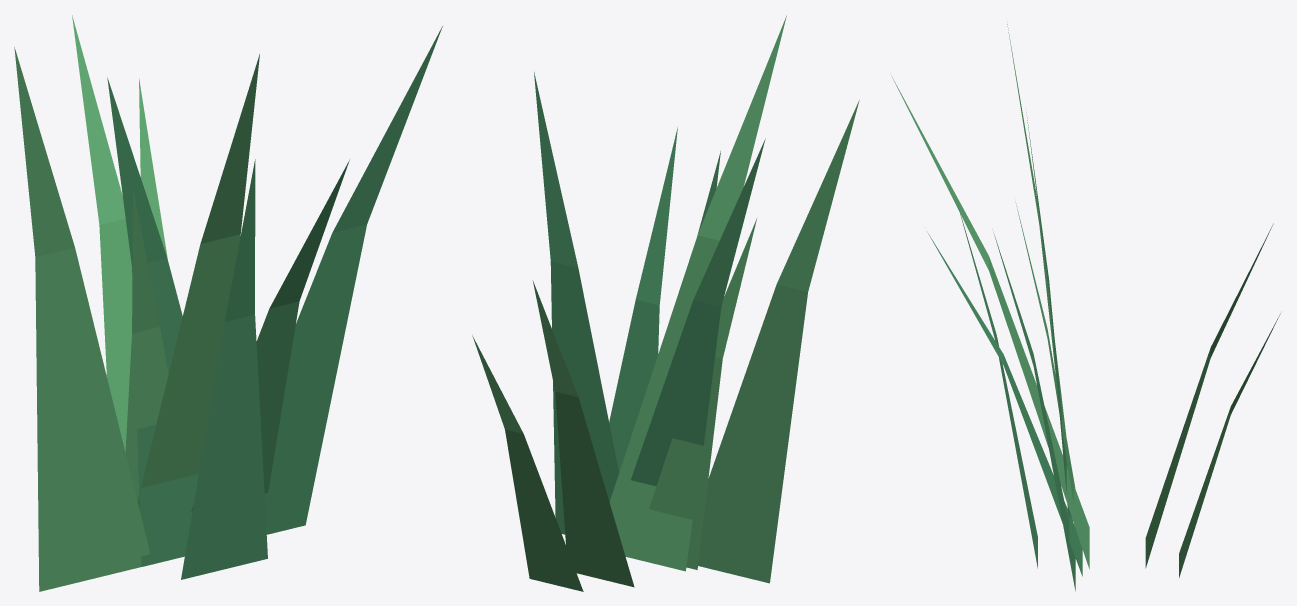
Rendered from Grass_A.glb.
3 views of the same model, side by side, from view 1: azimuth 30°, elevation 25°; view 2: azimuth 150°, elevation 25°; view 3: azimuth 270°, elevation 25° (orthographic). The views are drawn at different scales.
Visible parts, largest first — view 1: Grass_A; view 2: Grass_A; view 3: Grass_A.
Part boxes in pixels (x1,y1,x2,y2): Grass_A: (14, 15, 442, 591); Grass_A: (472, 15, 859, 591); Grass_A: (890, 22, 1280, 591).
Bounding box in the file's own units: 0.3663 × 0.5035 × 0.3914.
